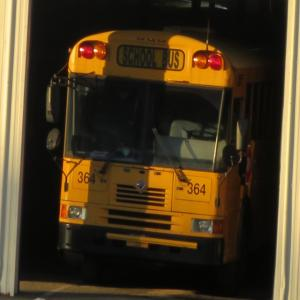Vehicle-registration-plate: (128, 242, 148, 251)
